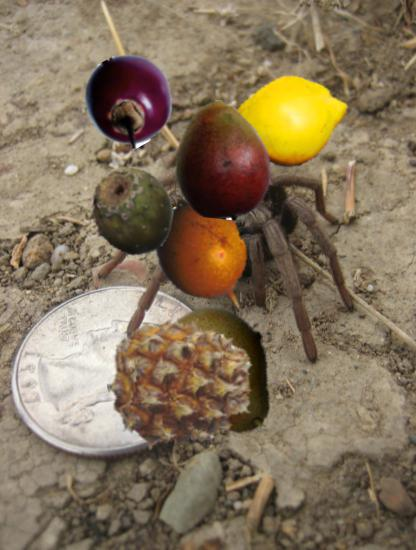Cactus: (85, 166, 178, 259)
Granadilla: (144, 199, 268, 323)
Mango: (165, 101, 283, 219)
Pear: (148, 303, 290, 445)
Pineapple: (107, 310, 256, 459)
Quince: (238, 65, 349, 176)
Tamarillo: (83, 54, 176, 147)
